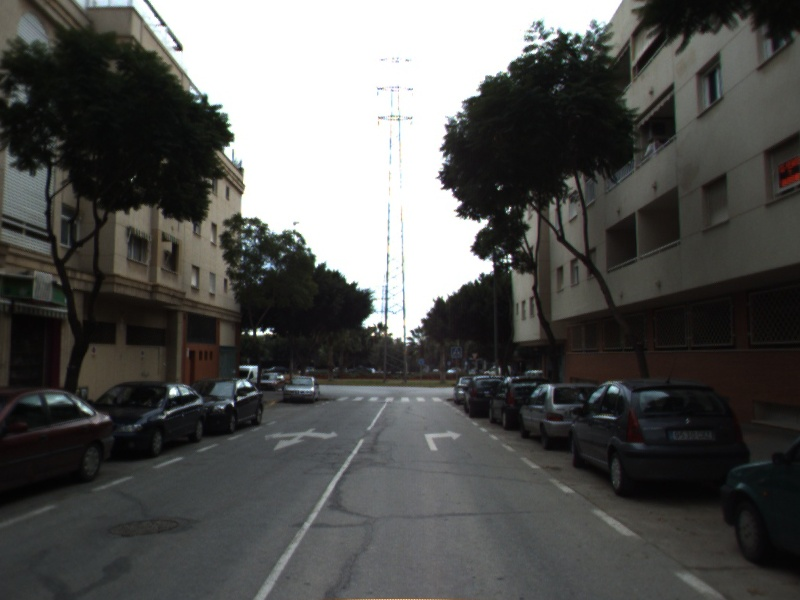RIGHT: (423, 428, 465, 453)
